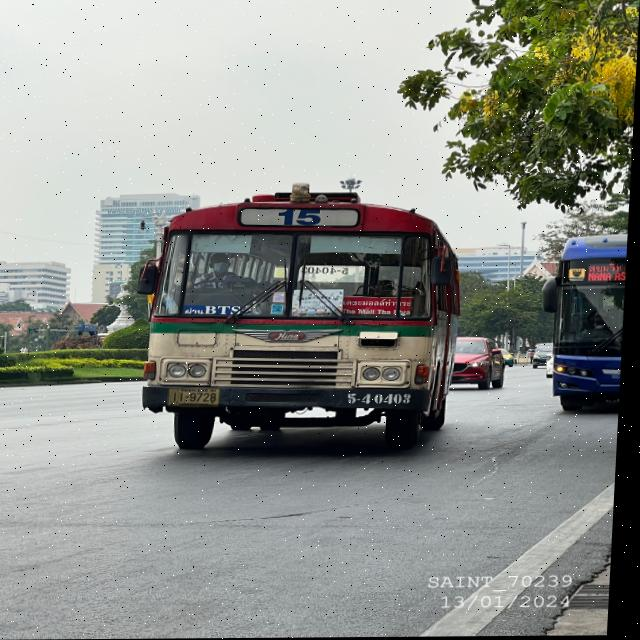BMTA-bus: (145, 185, 465, 453)
Bus Line Number: (272, 206, 334, 232)
Bus Side Number: (348, 388, 419, 409)
Destination Sign: (344, 297, 417, 317)
TSB-Bus: (551, 234, 630, 417)
